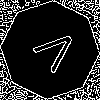V: (25, 25, 81, 80)
